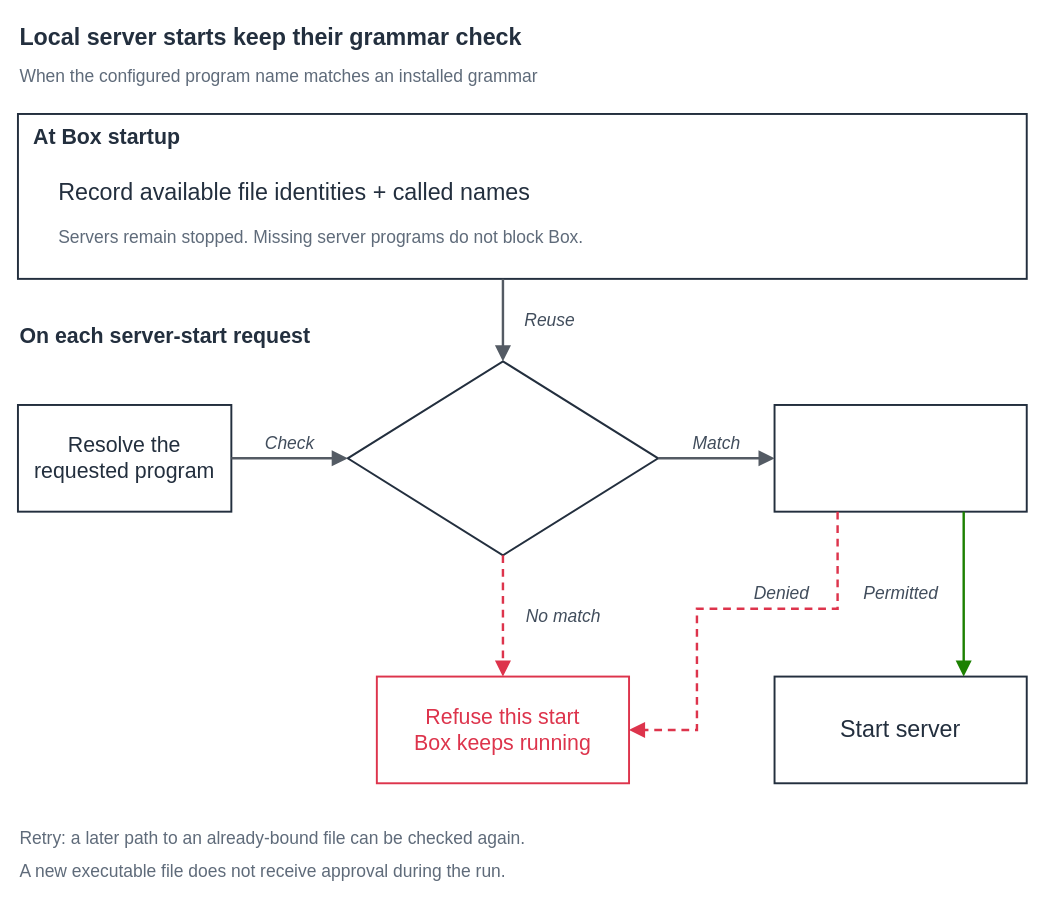
This 1044x899 diagram has some shape labels left out. The shapes that lost their labels are listed below. From the top down, each one's centre as x and y in pixels, then its label:
At (502,458): "File identity + called name match a startup binding?".
At (900,458): "Grammar policy decides".
